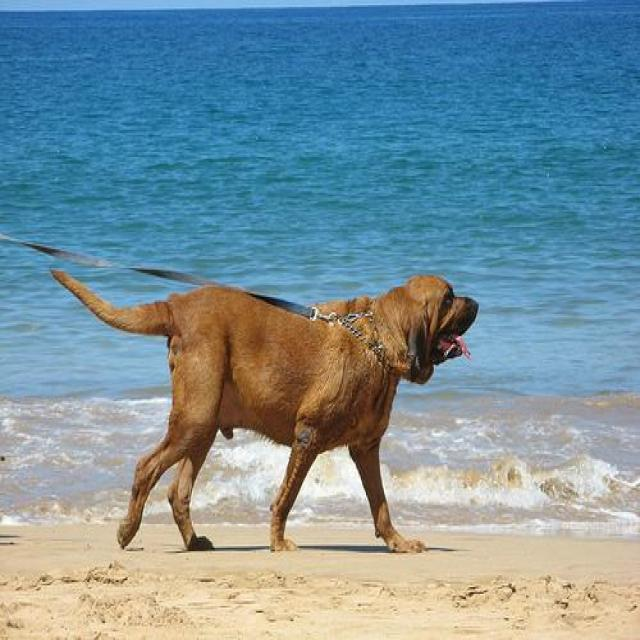bloodhound: (46, 259, 479, 556)
